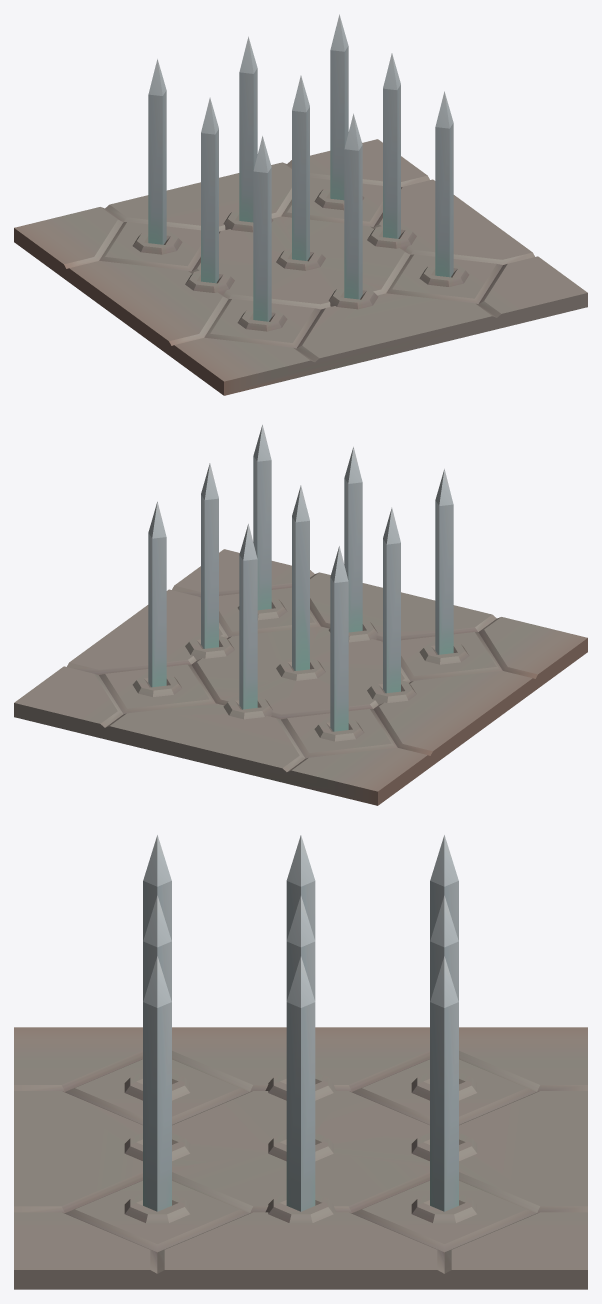
Rendered from kay-armadilha-chao.gltf.
3 views of the same model, one above another, from view 1: azimuth 30°, elevation 25°; view 2: azimuth 150°, elevation 25°; view 3: azimuth 270°, elevation 25° (orthographic). The views are drawn at different scales.
Visible parts, largest first — view 1: floor_tile_big_spikes; view 2: floor_tile_big_spikes; view 3: floor_tile_big_spikes.
Boxes of the visible parts, bbox=[...] form: floor_tile_big_spikes: bbox=[14, 14, 587, 395]; floor_tile_big_spikes: bbox=[14, 424, 587, 805]; floor_tile_big_spikes: bbox=[14, 835, 587, 1289].
Size of the model in its own units: 2.6 by 1.36 by 2.6.
1 material, 1 textured.
